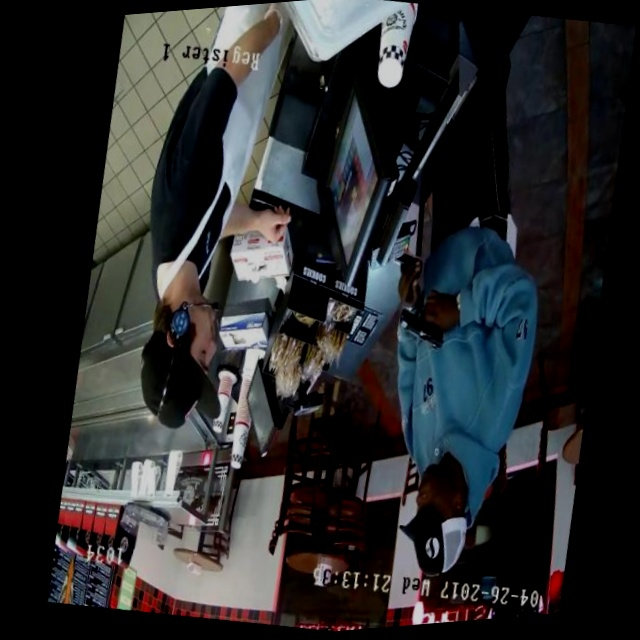gun: (379, 284, 468, 372)
